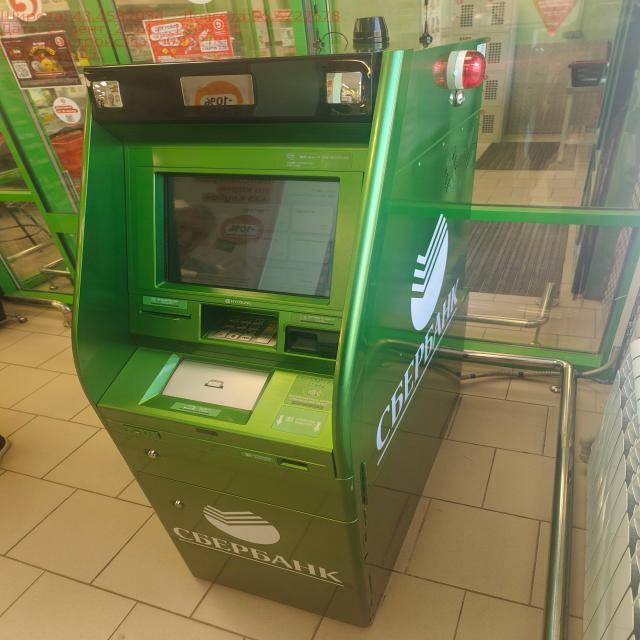bank: (88, 41, 489, 635)
